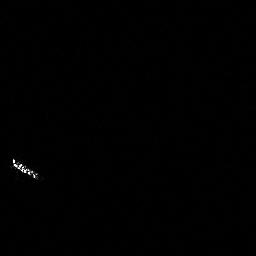ship: (11, 155, 41, 183)
